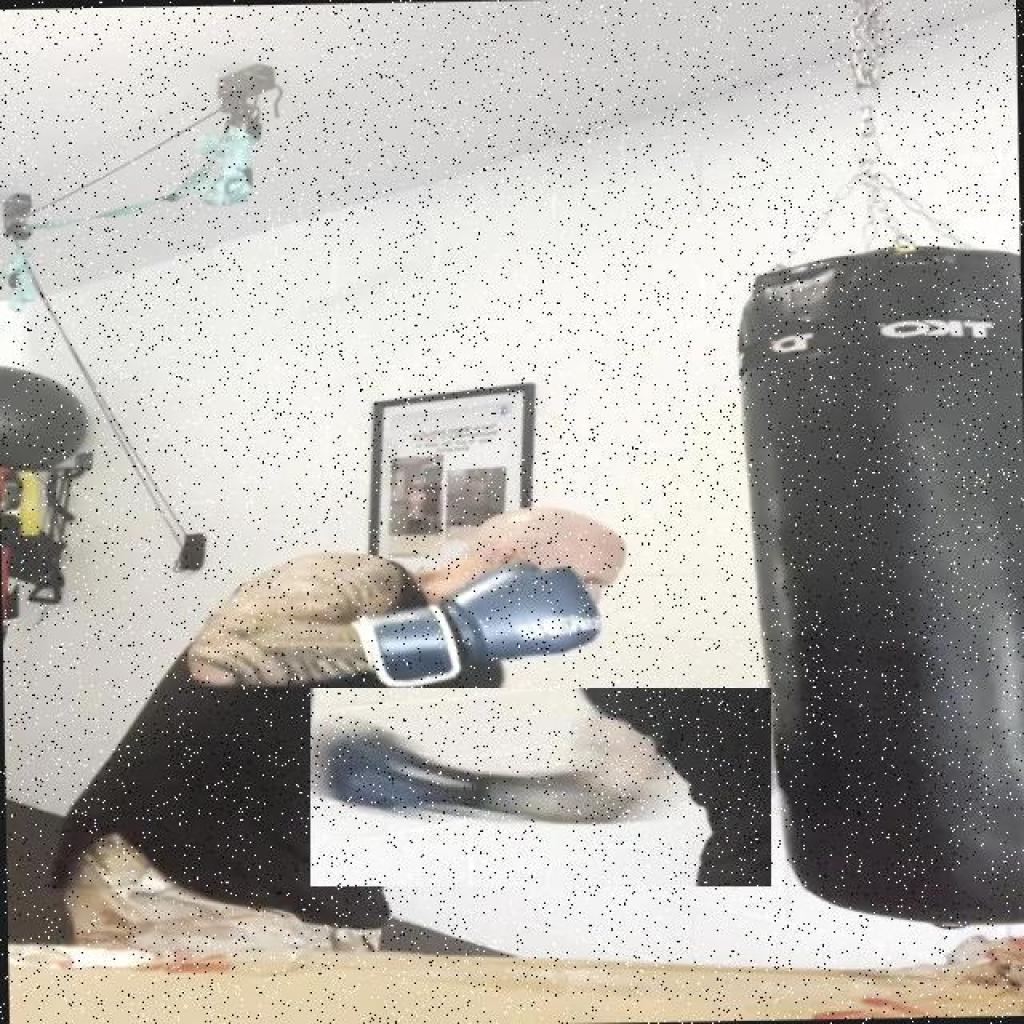bag: (745, 248, 1024, 925)
uppercut: (310, 688, 772, 886)
